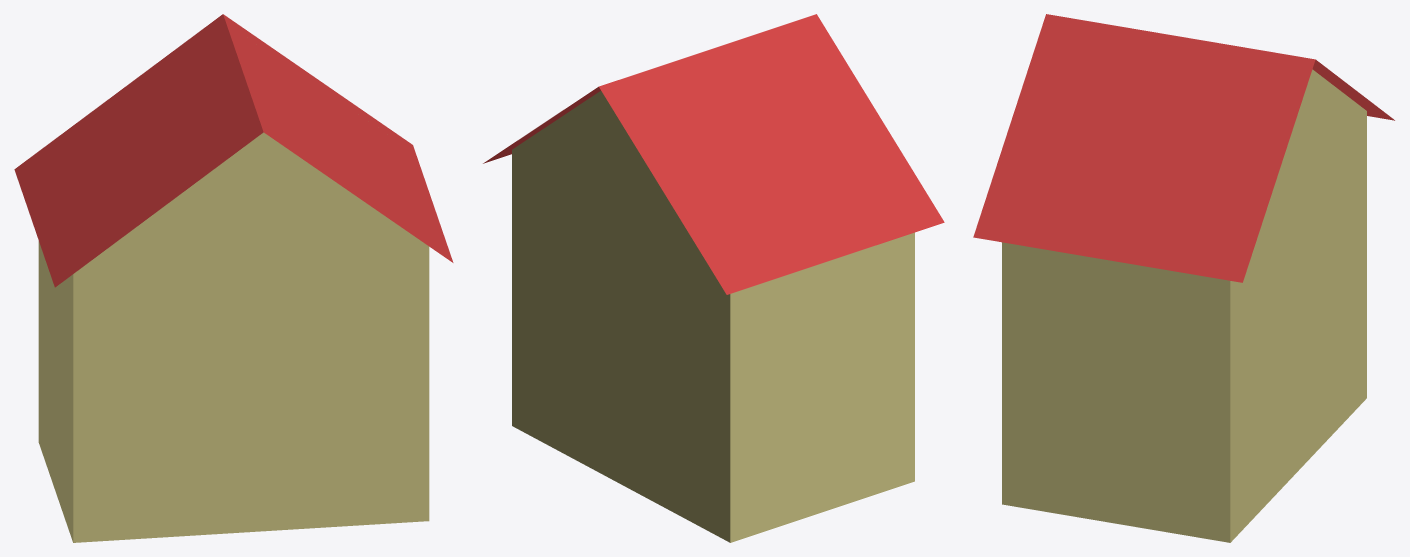
The picture shows the model from 3 angles, left to right: view 1: azimuth 30°, elevation 25°; view 2: azimuth 150°, elevation 25°; view 3: azimuth 270°, elevation 25°; orthographic projection. The views are drawn at different scales.
Size of the model in its own units: 11.11 by 9.56 by 10.45.
